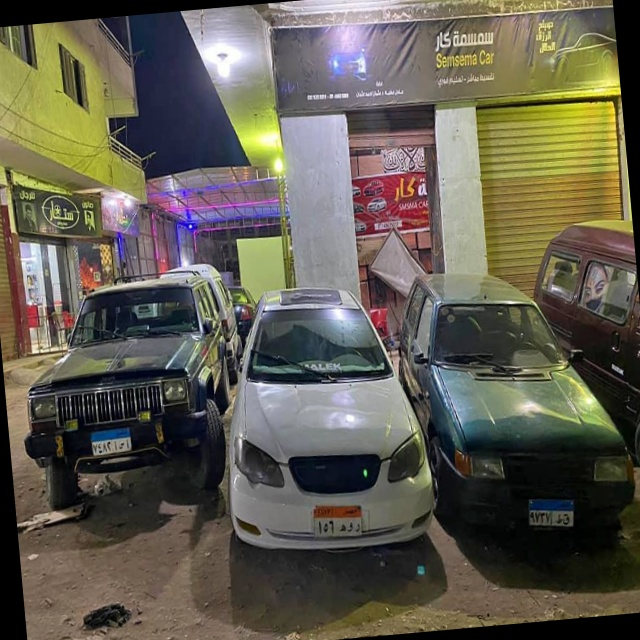License Plate: (523, 494, 578, 535), (311, 502, 364, 543), (89, 425, 132, 457)
